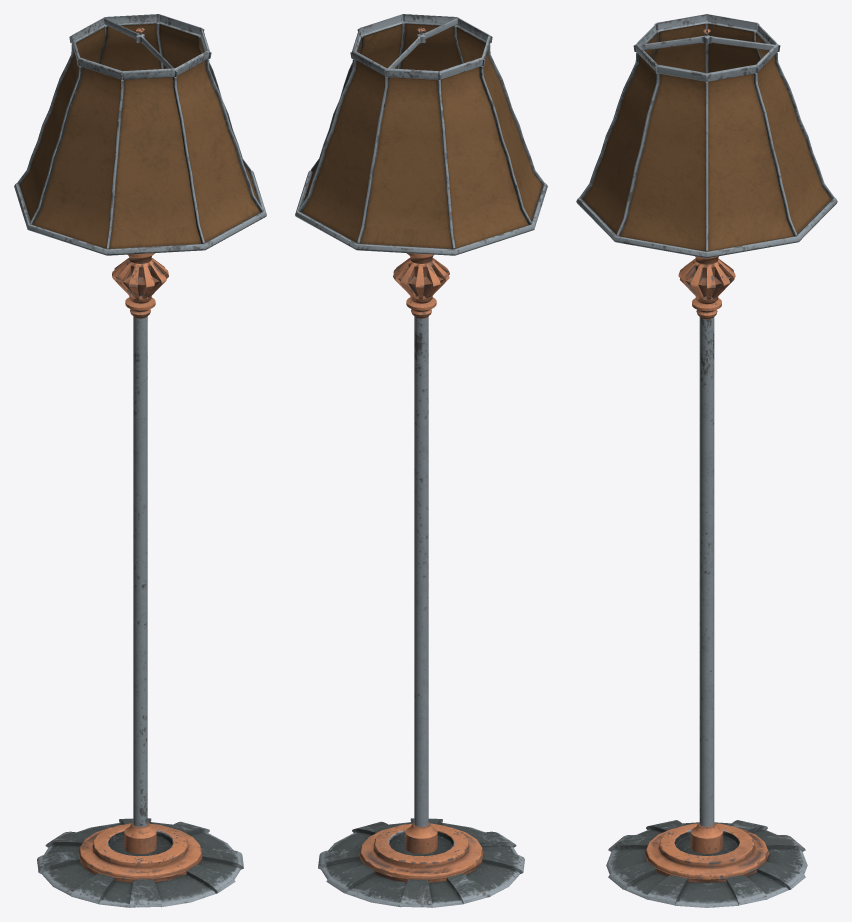
Rendered from lamp.glb.
3 views of the same model, side by side, from view 1: azimuth 30°, elevation 25°; view 2: azimuth 150°, elevation 25°; view 3: azimuth 270°, elevation 25° (orthographic).
Visible parts, largest first — view 1: pSphere4; view 2: pSphere4; view 3: pSphere4.
Part boxes in pixels (<box>): pSphere4: <box>14,14,266,907</box>; pSphere4: <box>295,14,547,907</box>; pSphere4: <box>576,14,837,907</box>.
Bounding box in the file's own units: 55.8 × 197 × 55.81.
Materials: 2 (2 with a texture image).
